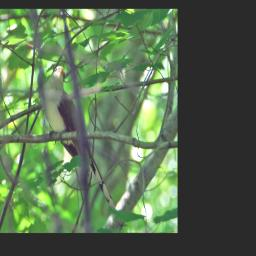Cuckoo: (40, 64, 121, 212)
